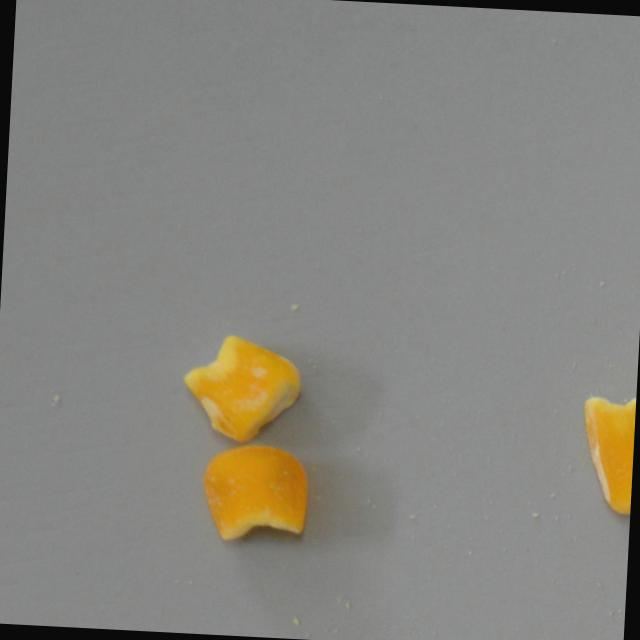dañado: (196, 436, 323, 554), (577, 382, 637, 520)
pelicula: (177, 326, 309, 445)
